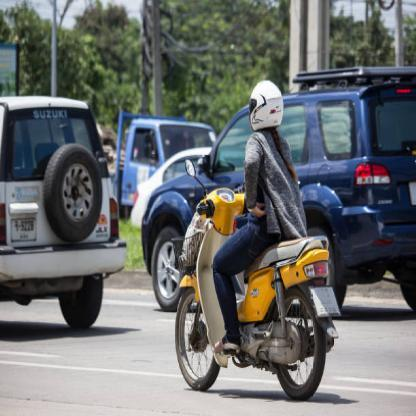Motorcycle: (173, 164, 338, 399)
